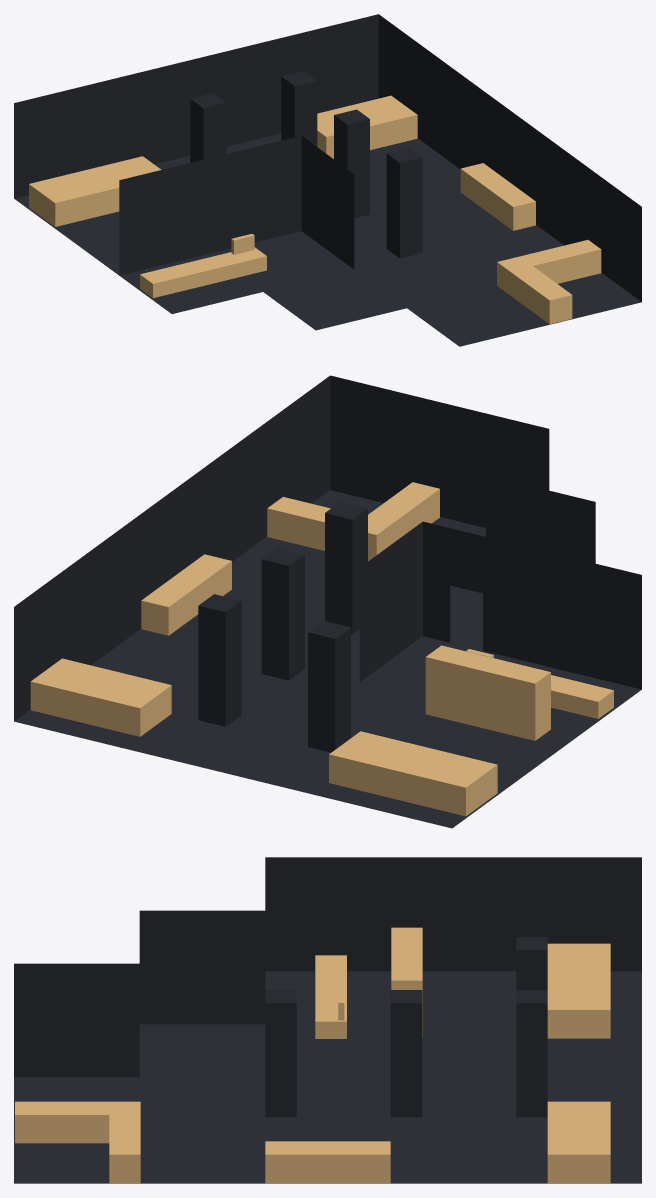
Rendered from FloorPlanTest.fbx.
3 renders of one model, top to bottom at view 1: azimuth 30°, elevation 25°; view 2: azimuth 150°, elevation 25°; view 3: azimuth 270°, elevation 25°, orthographic. The views are drawn at different scales.
Parts seen in each view (by area): view 1: FloorPlanTest; view 2: FloorPlanTest; view 3: FloorPlanTest.
Boxes of the visible parts, x1,y1,x2,y2 form: FloorPlanTest: [14, 14, 641, 346]; FloorPlanTest: [14, 375, 641, 828]; FloorPlanTest: [14, 857, 641, 1183].
Size of the model in its own units: 800 by 200 by 1000.
